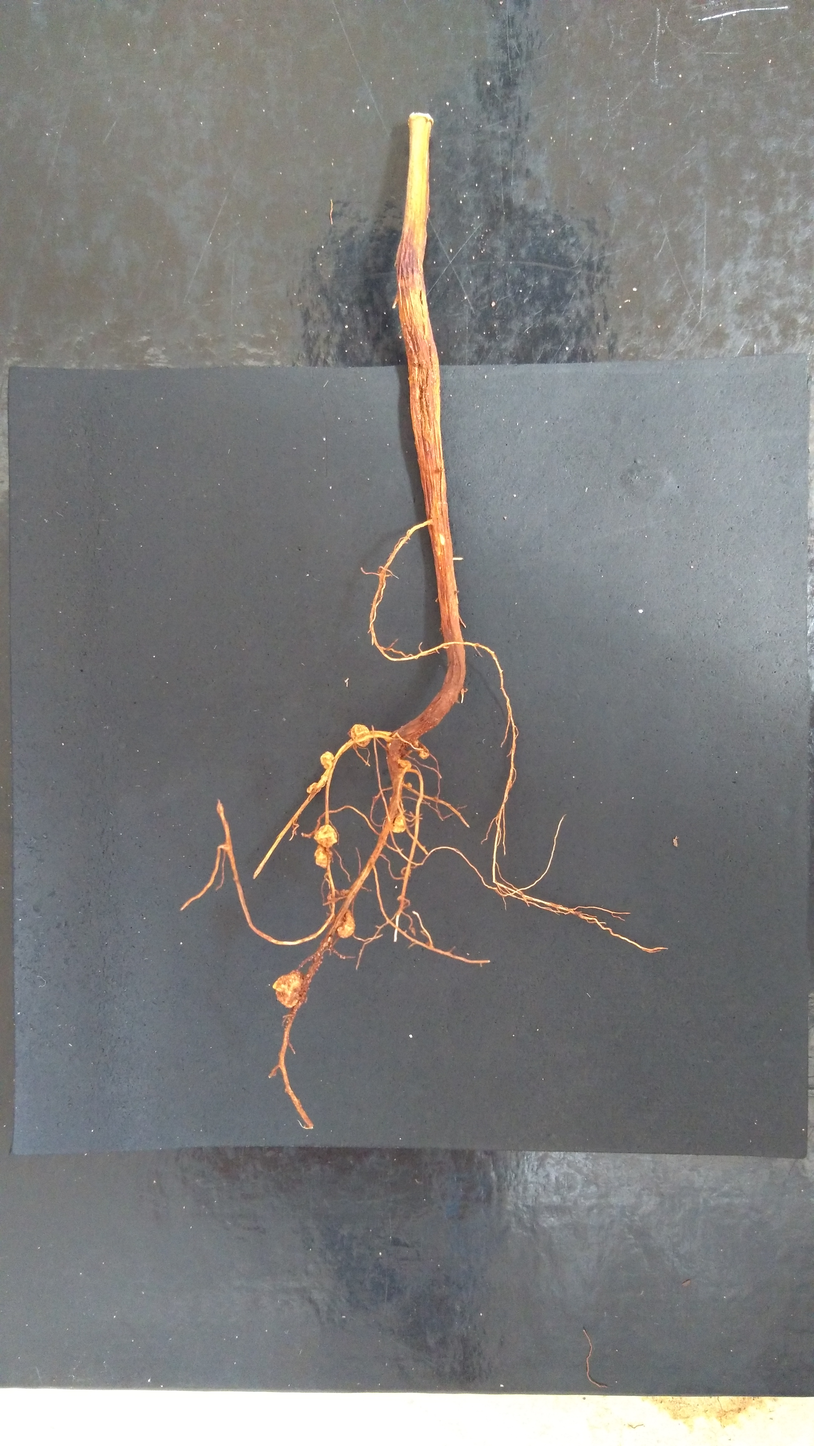nodule: (270, 967, 307, 1011), (312, 821, 340, 850), (346, 722, 375, 748), (336, 908, 356, 940), (311, 843, 329, 871), (317, 750, 336, 771), (391, 814, 408, 834), (417, 741, 431, 760), (305, 781, 319, 795), (400, 759, 411, 769), (406, 782, 412, 788)
